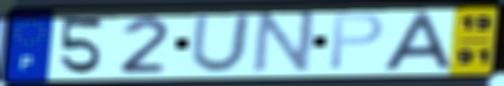2: (117, 14, 171, 75)
5: (58, 16, 104, 75)
A: (379, 9, 456, 72)
N: (248, 9, 319, 76)
P: (326, 11, 387, 72)
U: (187, 12, 254, 75)
